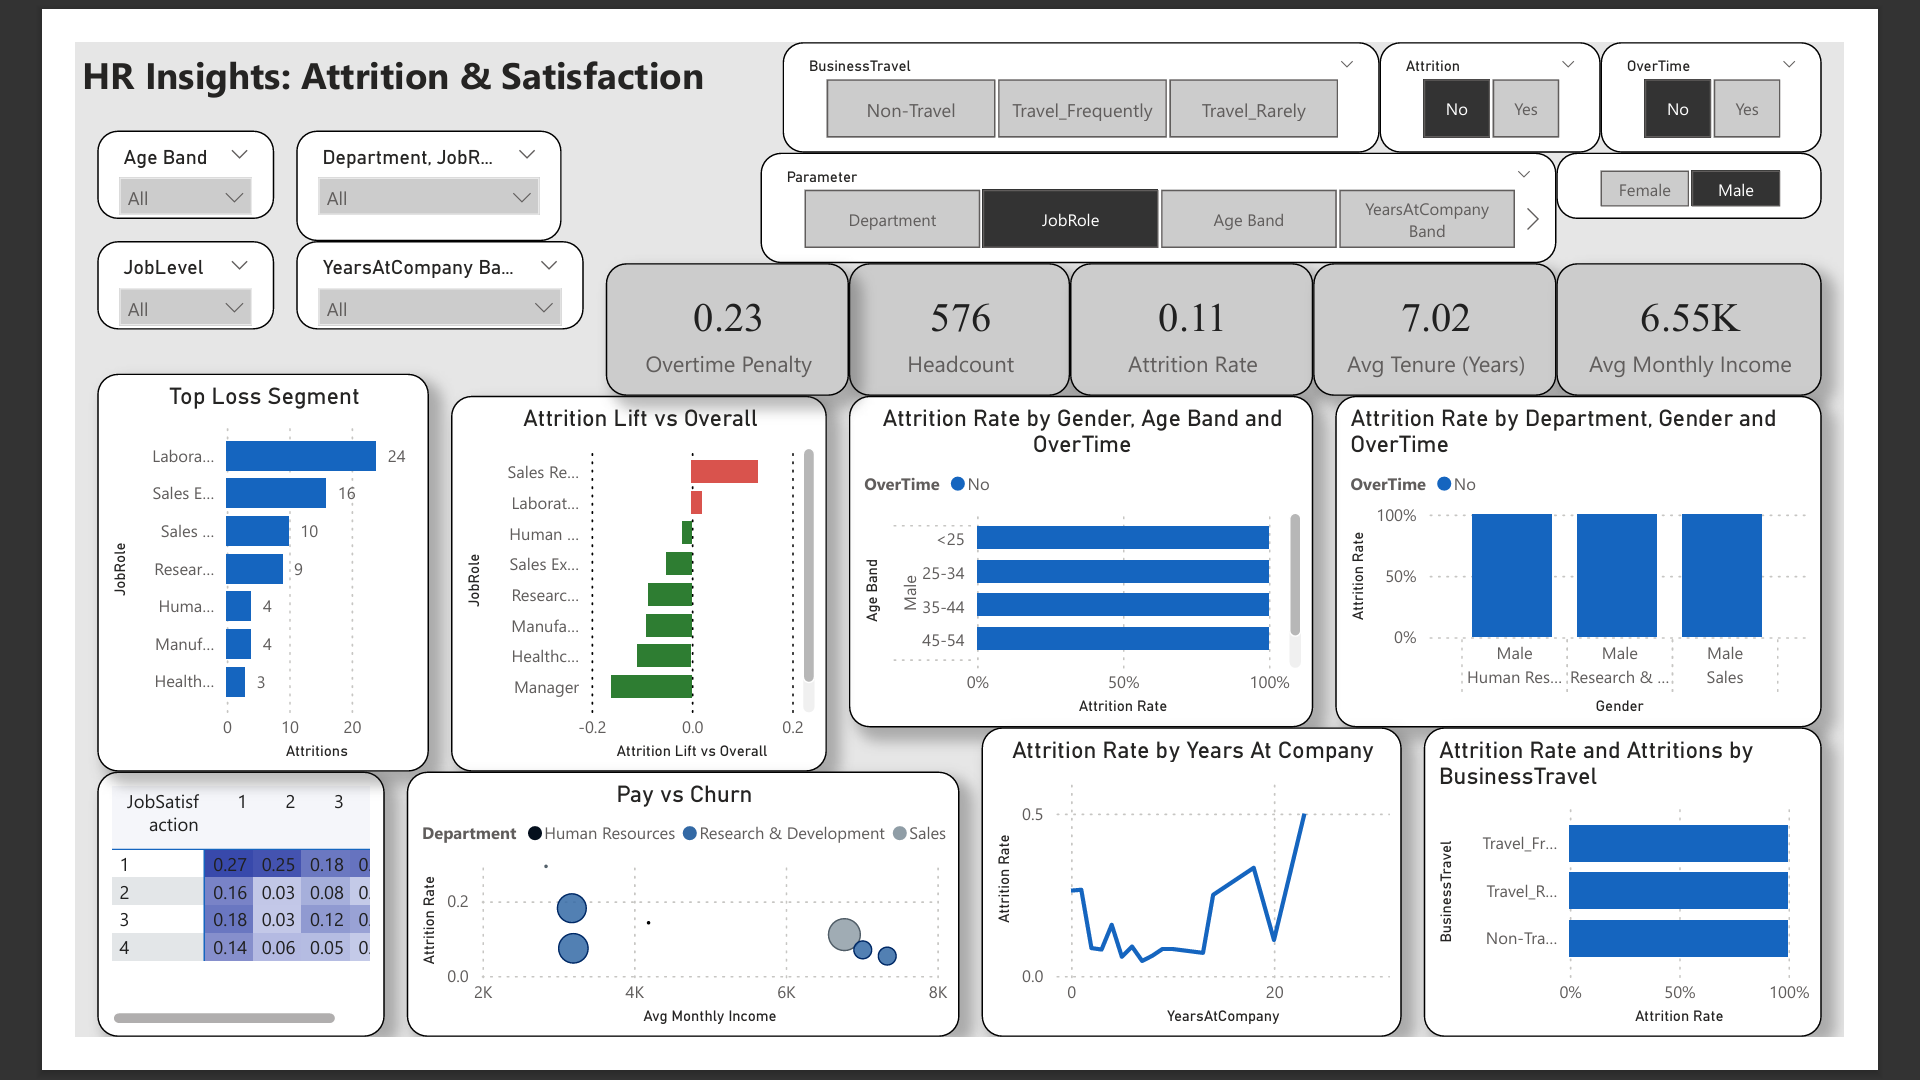

The page's visual inventory and layout, read from the dashboard file:
{"tool":"powerbi","page":{"name":"Page 1","canvas":[1280,720],"ordinal":0},"visuals":[{"type":"card","fields":{"Values":["HR Employee Dataset.Headcount"]},"box":[560,160,160,96],"z":0},{"type":"card","fields":{"Values":["HR Employee Dataset.Attrition Rate"]},"box":[720,160,176,96],"z":1000},{"type":"card","fields":{"Values":["HR Employee Dataset.Avg Tenure (Years)"]},"box":[896,160,176,96],"z":2000},{"type":"card","fields":{"Values":["HR Employee Dataset.Avg Monthly Income"]},"box":[1072,160,192,96],"z":3000},{"type":"hundredPercentStackedColumnChart","fields":{"Category":["HR Employee Dataset.Department","HR Employee Dataset.Gender"],"Y":["HR Employee Dataset.Attrition Rate"],"Series":["HR Employee Dataset.OverTime"]},"box":[912,256,352,240],"z":4000},{"type":"hundredPercentStackedBarChart","fields":{"Category":["HR Employee Dataset.Gender","HR Employee Dataset.Age Band"],"Y":["HR Employee Dataset.Attrition Rate"],"Series":["HR Employee Dataset.OverTime"]},"box":[560,256,336,240],"z":5000},{"type":"pivotTable","fields":{"Rows":["HR Employee Dataset.JobSatisfaction"],"Columns":["HR Employee Dataset.EnvironmentSatisfaction"],"Values":["HR Employee Dataset.Attrition Rate"]},"box":[0,544,240,160],"z":6000},{"type":"slicer","fields":{"Values":["HR Employee Dataset.Attrition"]},"box":[944,0,160,80],"z":7000},{"type":"clusteredBarChart","title":"Top Loss Segment","fields":{"Category":["HR Employee Dataset.JobRole"],"Y":["HR Employee Dataset.Attritions"]},"box":[16,240,240,288],"z":8000},{"type":"clusteredBarChart","title":"Attrition Lift vs Overall ","fields":{"Category":["HR Employee Dataset.JobRole"],"Y":["HR Employee Dataset.Attrition Lift vs Overall"]},"box":[272,256,272,272],"z":9000},{"type":"scatterChart","title":"Pay vs Churn","fields":{"X":["HR Employee Dataset.Avg Monthly Income"],"Y":["HR Employee Dataset.Attrition Rate"],"Category":["HR Employee Dataset.JobRole"],"Series":["HR Employee Dataset.Department"],"Size":["HR Employee Dataset.Headcount"]},"box":[256,528,400,192],"z":10000},{"type":"textbox","box":[0,0,496,64],"z":11000},{"type":"slicer","fields":{"Values":["HR Employee Dataset.Department","HR Employee Dataset.JobRole"]},"box":[160,64,192,80],"z":12000},{"type":"slicer","fields":{"Values":["HR Employee Dataset.YearsAtCompany Band"]},"box":[160,144,208,64],"z":13000},{"type":"slicer","fields":{"Values":["HR Employee Dataset.OverTime"]},"box":[1104,0,160,80],"z":14000},{"type":"slicer","fields":{"Values":["HR Employee Dataset.Gender"]},"box":[1072,80,192,48],"z":15000},{"type":"slicer","fields":{"Values":["HR Employee Dataset.Age Band"]},"box":[16,64,128,64],"z":16000},{"type":"slicer","fields":{"Values":["HR Employee Dataset.BusinessTravel"]},"box":[512,0,432,80],"z":17000},{"type":"slicer","fields":{"Values":["HR Employee Dataset.JobLevel"]},"box":[16,144,128,64],"z":18000},{"type":"slicer","fields":{"Values":["Parameter.Parameter"]},"box":[496,80,576,80],"z":19000},{"type":"lineChart","title":"Attrition Rate by Years At Company","fields":{"Y":["HR Employee Dataset.Attrition Rate"],"Category":["HR Employee Dataset.YearsAtCompany"]},"box":[672,496,304,224],"z":20000},{"type":"hundredPercentStackedBarChart","fields":{"Category":["HR Employee Dataset.BusinessTravel"],"Y":["HR Employee Dataset.Attrition Rate"]},"box":[992,496,288,224],"z":21000},{"type":"card","fields":{"Values":["HR Employee Dataset.Overtime Penalty"]},"box":[384,160,176,96],"z":22000}]}

Visuals, with their boxes in screenshot pixels (x1, y1, x2, y2), scaled from the page's 1280x720 canvas onto the 1920x1080 screenshot:
card - HR Employee Dataset.Headcount: crop(840, 240, 1080, 384)
card - HR Employee Dataset.Attrition Rate: crop(1080, 240, 1344, 384)
card - HR Employee Dataset.Avg Tenure (Years): crop(1344, 240, 1608, 384)
card - HR Employee Dataset.Avg Monthly Income: crop(1608, 240, 1896, 384)
hundredPercentStackedColumnChart - HR Employee Dataset.Department x HR Employee Dataset.Gender: crop(1368, 384, 1896, 744)
hundredPercentStackedBarChart - HR Employee Dataset.Gender x HR Employee Dataset.Age Band: crop(840, 384, 1344, 744)
pivotTable - HR Employee Dataset.JobSatisfaction x HR Employee Dataset.EnvironmentSatisfaction: crop(0, 816, 360, 1056)
slicer - HR Employee Dataset.Attrition: crop(1416, 0, 1656, 120)
"Top Loss Segment" clusteredBarChart: crop(24, 360, 384, 792)
"Attrition Lift vs Overall " clusteredBarChart: crop(408, 384, 816, 792)
"Pay vs Churn" scatterChart: crop(384, 792, 984, 1079)
textbox: crop(0, 0, 744, 96)
slicer - HR Employee Dataset.Department x HR Employee Dataset.JobRole: crop(240, 96, 528, 216)
slicer - HR Employee Dataset.YearsAtCompany Band: crop(240, 216, 552, 312)
slicer - HR Employee Dataset.OverTime: crop(1656, 0, 1896, 120)
slicer - HR Employee Dataset.Gender: crop(1608, 120, 1896, 192)
slicer - HR Employee Dataset.Age Band: crop(24, 96, 216, 192)
slicer - HR Employee Dataset.BusinessTravel: crop(768, 0, 1416, 120)
slicer - HR Employee Dataset.JobLevel: crop(24, 216, 216, 312)
slicer - Parameter.Parameter: crop(744, 120, 1608, 240)
"Attrition Rate by Years At Company" lineChart: crop(1008, 744, 1464, 1079)
hundredPercentStackedBarChart - HR Employee Dataset.BusinessTravel x HR Employee Dataset.Attrition Rate: crop(1488, 744, 1919, 1079)
card - HR Employee Dataset.Overtime Penalty: crop(576, 240, 840, 384)
